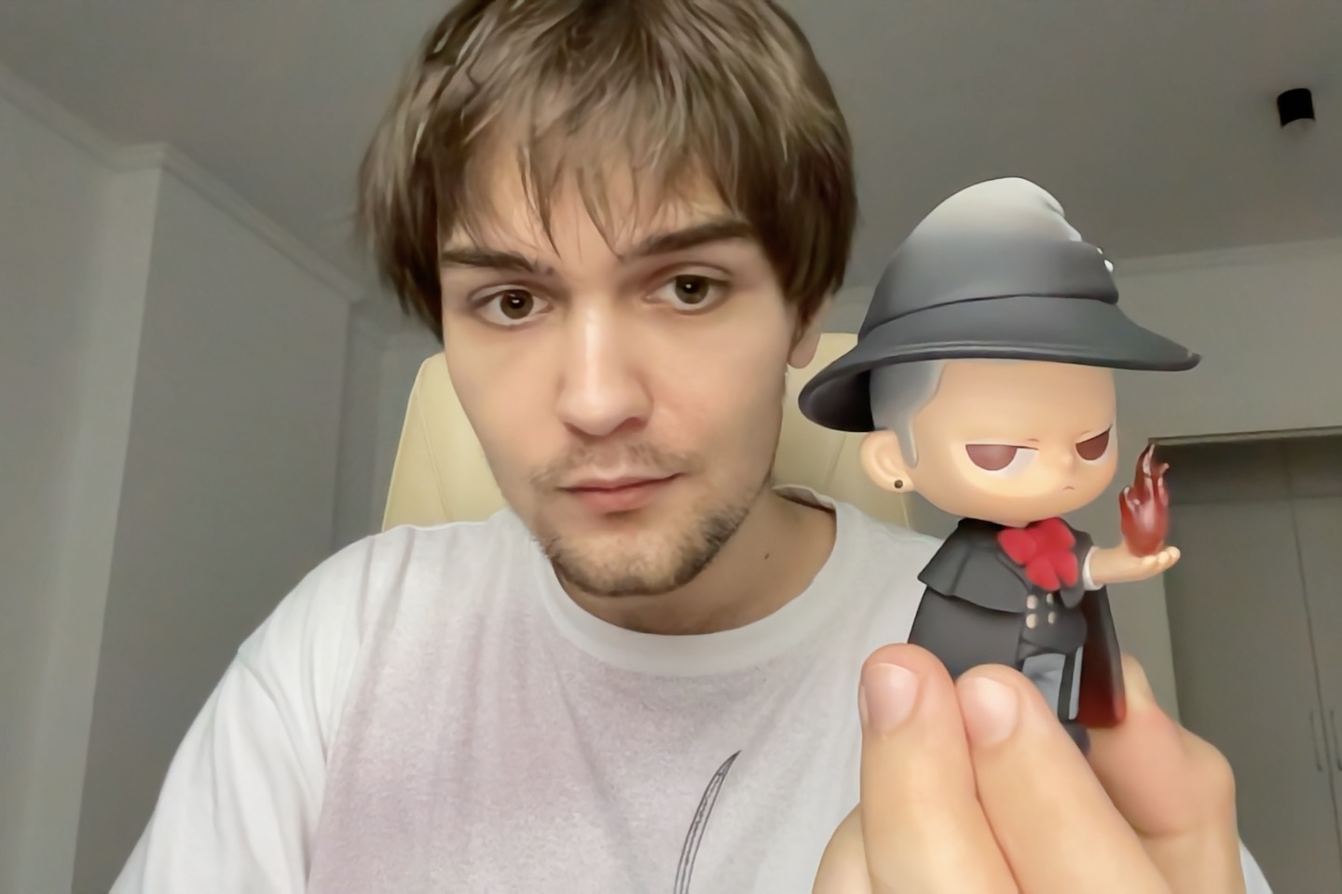magician: (791, 172, 1209, 760)
